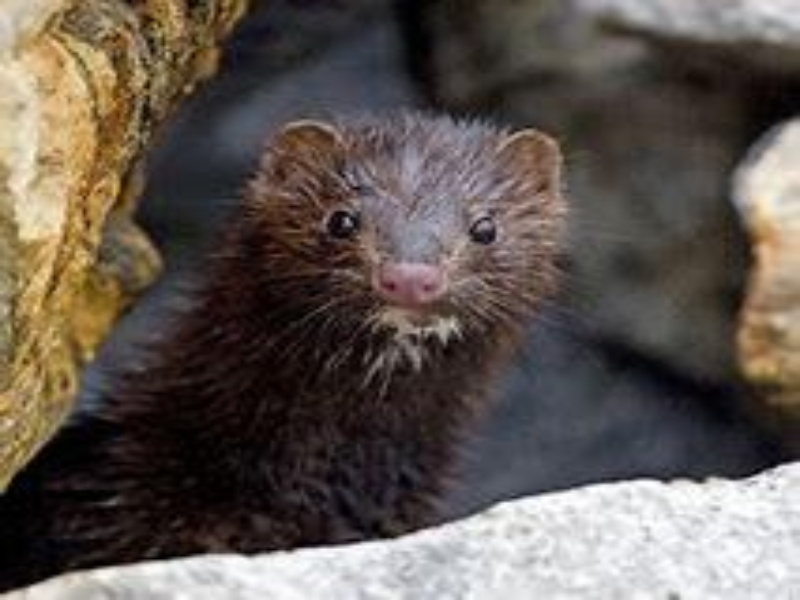minkish: (5, 107, 579, 587)
